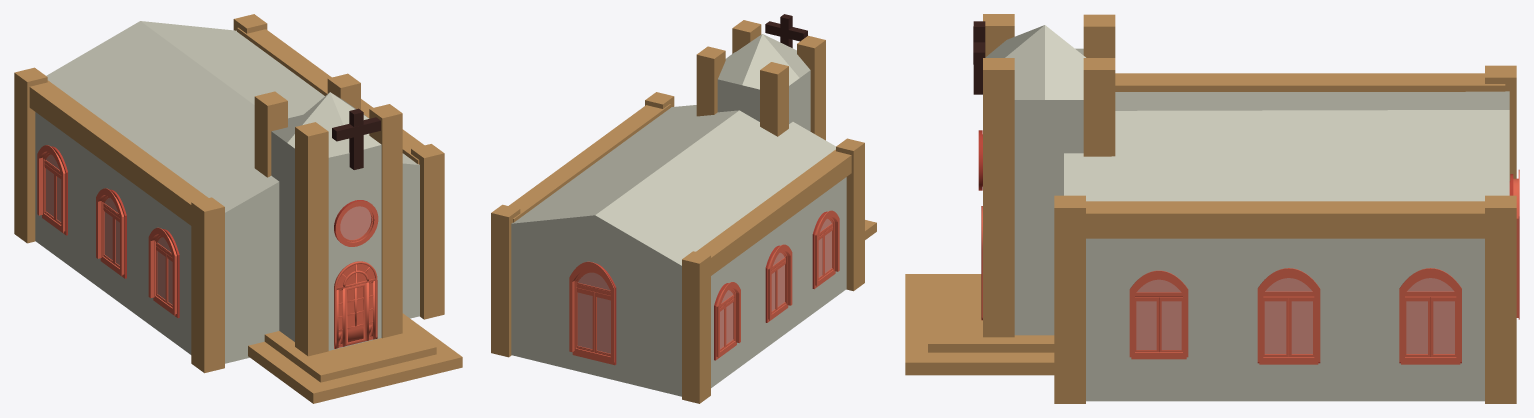
Rendered from testeigreja.fbx.
3 renders of one model, left to right at view 1: azimuth 30°, elevation 25°; view 2: azimuth 150°, elevation 25°; view 3: azimuth 270°, elevation 25°, orthographic. The views are drawn at different scales.
Visible parts, largest first — view 1: Cube, Cube.001, Cube.005, Cube.013, Cube.009, Cube.004, Cube.014, Cube.015, Cube.008, Cube.011, AnyConv.com__829, Cube.012 (+13 smaller); view 2: Cube, Cube.013, Cube.001, Cube.011, Cube.010, Cube.012, Cube.009, Cube.006, Cube.005, Window.002, Cube.007, Window Panel.013 (+12 smaller); view 3: Cube, Cube.001, Cube.012, Cube.004, Cube.013, Cube.008, Cube.010, Cube.014, Cube.015, Cube.007, Window.004, Window.003 (+15 smaller).
Boxes of the visible parts, x1=… form: Cube: x1=35, y1=21, x2=419, y2=363; Cube.001: x1=271, y1=92, x2=381, y2=350; Cube.005: x1=295, y1=122, x2=328, y2=356; Cube.013: x1=29, y1=80, x2=208, y2=225; Cube.009: x1=191, y1=197, x2=224, y2=373; Cube.004: x1=369, y1=104, x2=402, y2=338; Cube.014: x1=248, y1=313, x2=462, y2=403; Cube.015: x1=264, y1=322, x2=436, y2=382; Cube.008: x1=411, y1=144, x2=444, y2=319; Cube.011: x1=14, y1=67, x2=47, y2=243; AnyConv.com__829: x1=334, y1=261, x2=377, y2=348; Cube.012: x1=237, y1=27, x2=424, y2=164; Cube: x1=511, y1=105, x2=846, y2=396; Cube.013: x1=696, y1=149, x2=851, y2=275; Cube.001: x1=717, y1=34, x2=810, y2=131; Cube.011: x1=682, y1=251, x2=710, y2=403; Cube.010: x1=491, y1=204, x2=520, y2=357; Cube.012: x1=509, y1=104, x2=670, y2=222; Cube.009: x1=836, y1=138, x2=864, y2=291; Cube.006: x1=760, y1=62, x2=788, y2=136; Cube.005: x1=797, y1=35, x2=825, y2=140; Window.002: x1=569, y1=261, x2=616, y2=365; Cube.007: x1=696, y1=46, x2=725, y2=116; Window Panel.013: x1=576, y1=287, x2=594, y2=352; Cube: x1=1064, y1=91, x2=1509, y2=401; Cube.001: x1=985, y1=25, x2=1085, y2=335; Cube.012: x1=1086, y1=201, x2=1484, y2=238; Cube.004: x1=983, y1=58, x2=1014, y2=337; Cube.013: x1=1115, y1=73, x2=1505, y2=91; Cube.008: x1=1054, y1=195, x2=1085, y2=403; Cube.010: x1=1485, y1=195, x2=1516, y2=403; Cube.014: x1=905, y1=274, x2=1054, y2=375; Cube.015: x1=928, y1=275, x2=1054, y2=352; Cube.007: x1=1083, y1=58, x2=1115, y2=156; Window.004: x1=1257, y1=268, x2=1320, y2=364; Window.003: x1=1399, y1=268, x2=1461, y2=364.
Size of the model in its own units: 1534 by 1533 by 2745.
